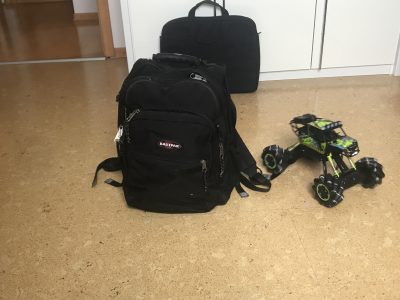remote control car: (260, 111, 385, 208)
